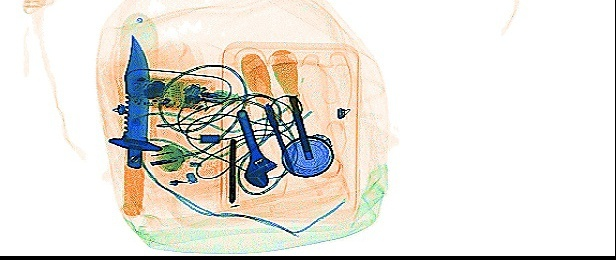knife: (105, 33, 160, 217)
